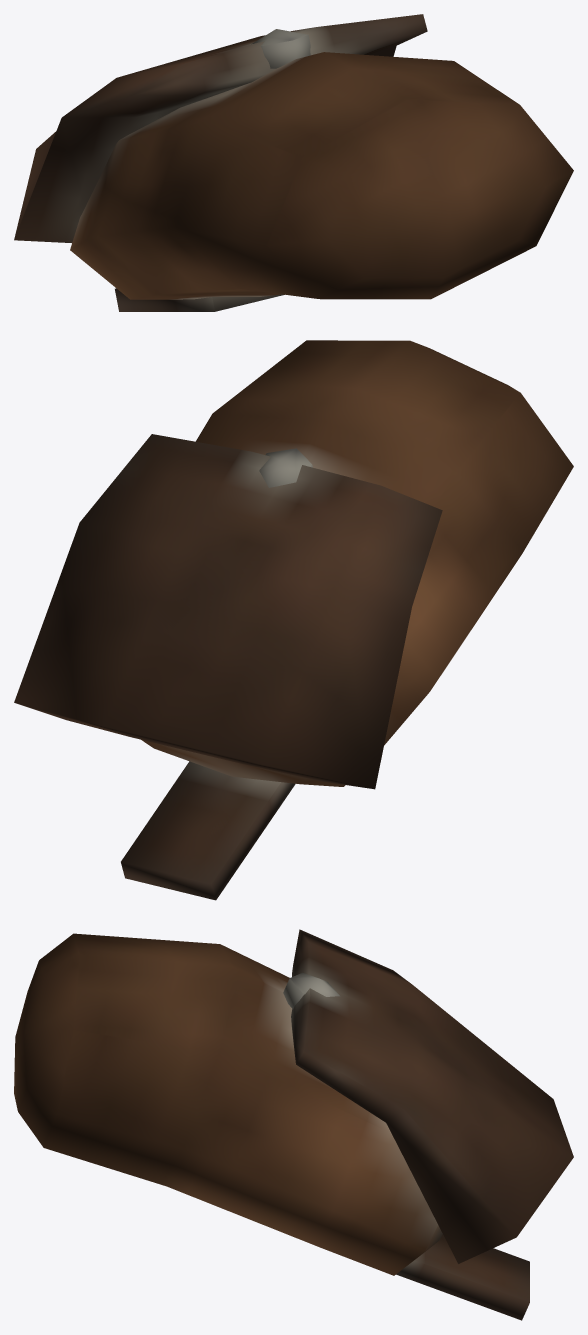
File: Prop_Pouch.fbx
3 renders of one model, top to bottom at view 1: azimuth 30°, elevation 25°; view 2: azimuth 150°, elevation 25°; view 3: azimuth 270°, elevation 25°, orthographic. The views are drawn at different scales.
Parts seen in each view (by area): view 1: Prop_Pouch; view 2: Prop_Pouch; view 3: Prop_Pouch.
Boxes of the visible parts, x1,y1,x2,y2 form: Prop_Pouch: (14,14,573,311); Prop_Pouch: (14,340,573,900); Prop_Pouch: (14,929,573,1320).
Size of the model in its own units: 0.069 by 0.0706 by 0.104.
